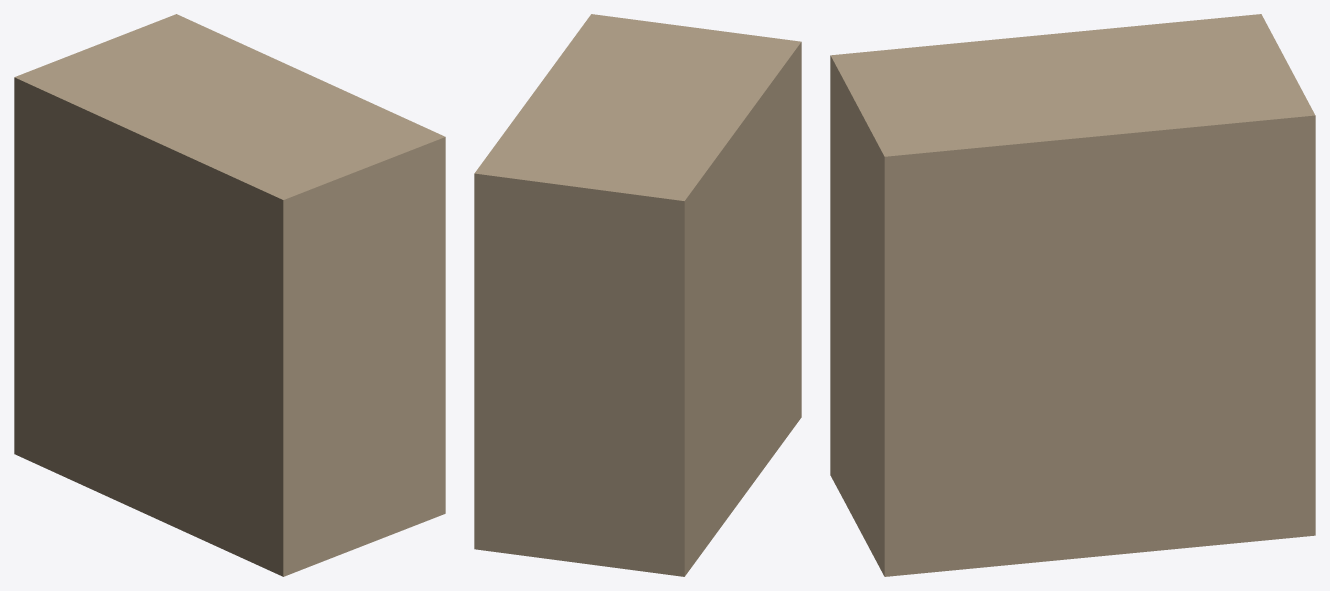
Rendered from bld_55879276.dae.
3 renders of one model, left to right at view 1: azimuth 30°, elevation 25°; view 2: azimuth 150°, elevation 25°; view 3: azimuth 270°, elevation 25°, orthographic. The views are drawn at different scales.
Visible parts, largest first — view 1: bld_55879276; view 2: bld_55879276; view 3: bld_55879276.
Boxes of the visible parts, x1=… form: bld_55879276: x1=14, y1=14, x2=445, y2=576; bld_55879276: x1=474, y1=14, x2=801, y2=576; bld_55879276: x1=830, y1=14, x2=1315, y2=576.
Bounding box in the file's own units: 5.83 × 8.37 × 8.
